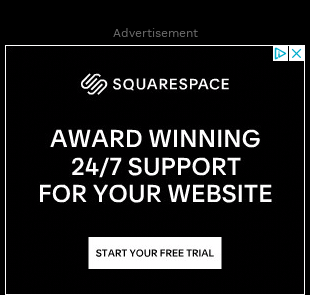fake_button: (87, 230, 227, 275)
